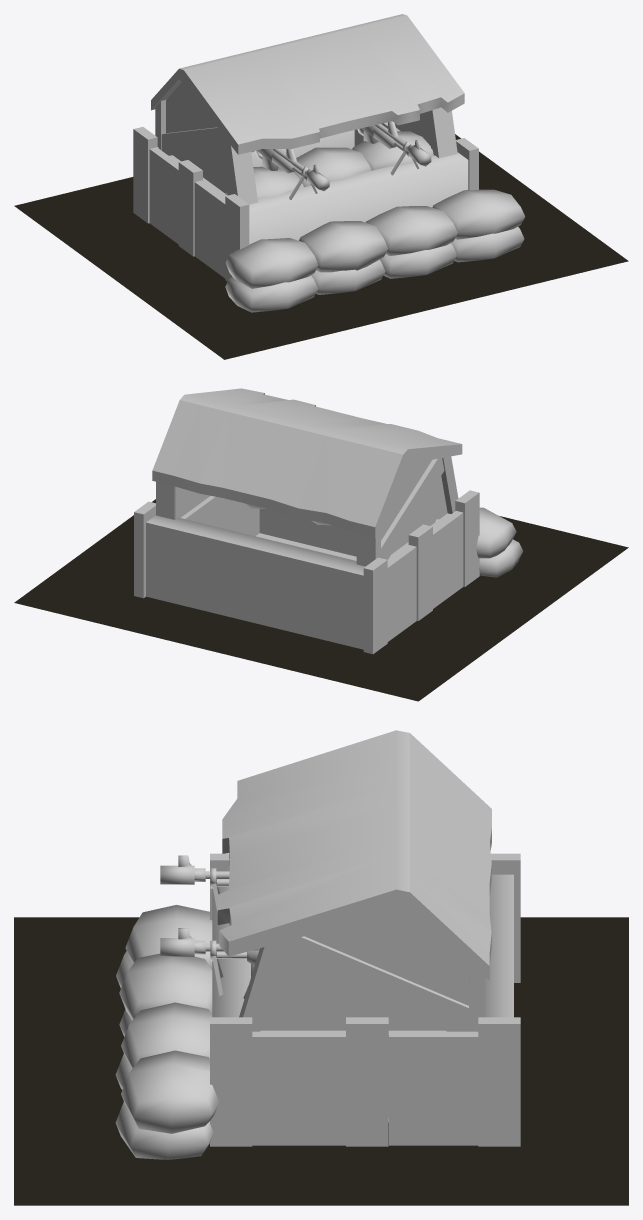
Rendered from Fortress_01.FBX.
3 renders of one model, top to bottom at view 1: azimuth 30°, elevation 25°; view 2: azimuth 150°, elevation 25°; view 3: azimuth 270°, elevation 25°, orthographic. The views are drawn at different scales.
Parts seen in each view (by area): view 1: Box013, Plane028; view 2: Box013, Plane028; view 3: Box013, Plane028.
Boxes of the visible parts, <box> form: Box013: <box>133,14,525,312</box>; Plane028: <box>14,134,628,359</box>; Box013: <box>134,388,523,654</box>; Plane028: <box>14,499,628,701</box>; Box013: <box>115,730,520,1159</box>; Plane028: <box>14,917,628,1205</box>.
Bounding box in the file's own units: 562 × 242 × 506.
